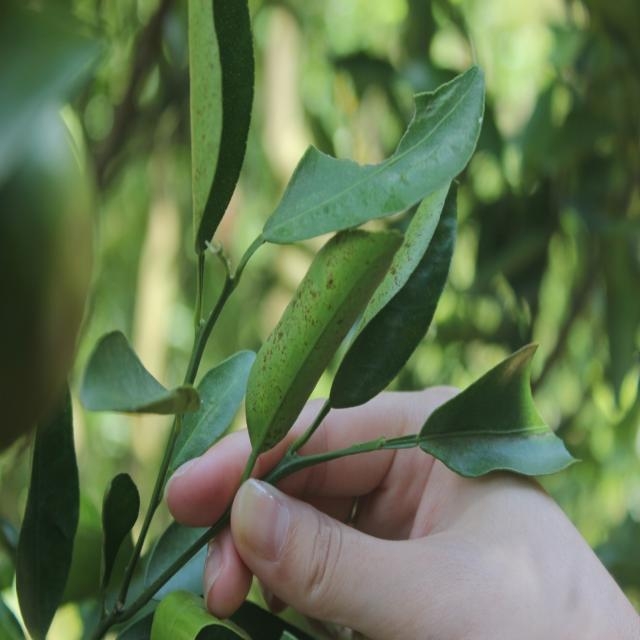melanose: (241, 231, 402, 444), (347, 193, 456, 364), (177, 0, 252, 248)
